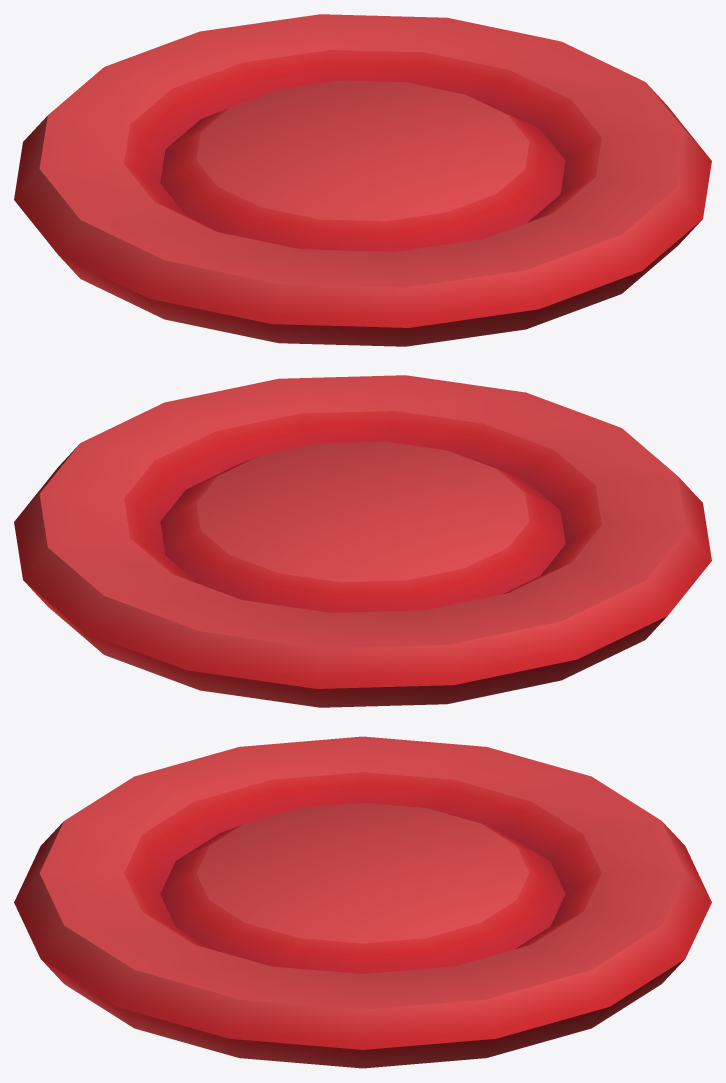
Rendered from token-red.glb.
3 views of the same model, one above another, from view 1: azimuth 30°, elevation 25°; view 2: azimuth 150°, elevation 25°; view 3: azimuth 270°, elevation 25° (orthographic).
Parts seen in each view (by area): view 1: token_red; view 2: token_red; view 3: token_red.
Part boxes in pixels (box(x1,y1,x2,y2)): token_red: box(14, 14, 711, 346); token_red: box(14, 375, 711, 707); token_red: box(14, 736, 711, 1068).
Size of the model in its own units: 1.08 by 0.1 by 1.08.
Materials: 1 (1 with a texture image).
